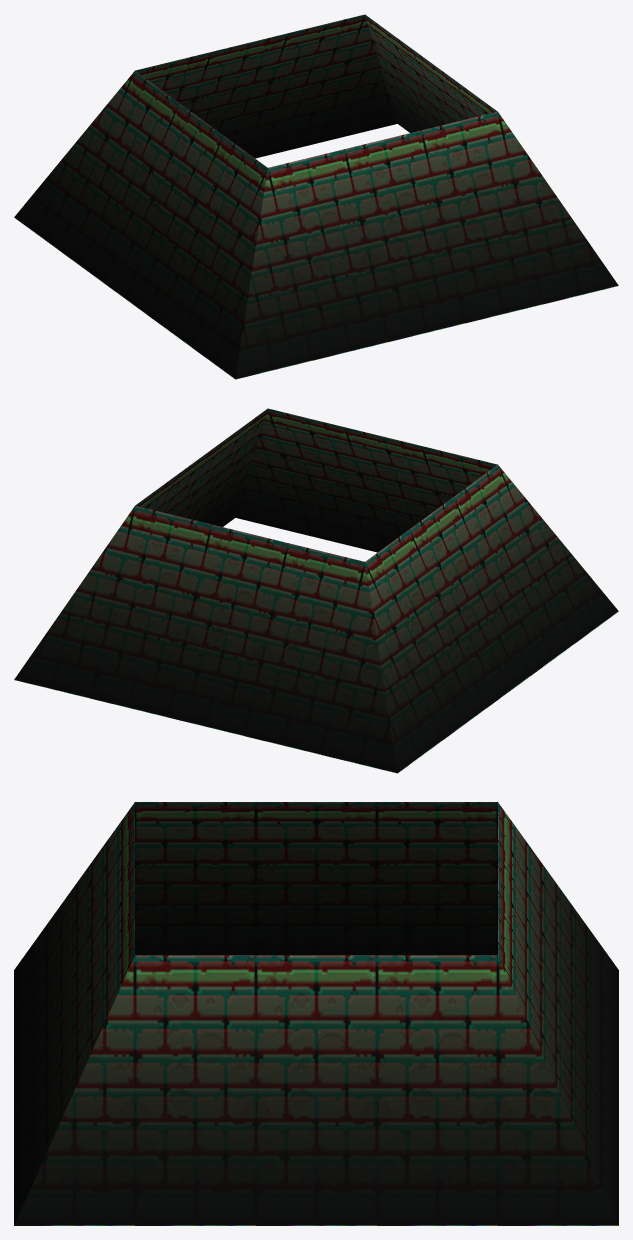
File: arch_cathedral_wallBottom_isle.FBX
3 renders of one model, top to bottom at view 1: azimuth 30°, elevation 25°; view 2: azimuth 150°, elevation 25°; view 3: azimuth 270°, elevation 25°, orthographic. The views are drawn at different scales.
Parts seen in each view (by area): view 1: arch_cathedral_wallBottom_isle; view 2: arch_cathedral_wallBottom_isle; view 3: arch_cathedral_wallBottom_isle.
Boxes of the visible parts, <box> form: arch_cathedral_wallBottom_isle: <box>14,14,618,379</box>; arch_cathedral_wallBottom_isle: <box>14,408,618,773</box>; arch_cathedral_wallBottom_isle: <box>14,802,618,1225</box>.
Bounding box in the file's own units: 10 × 4 × 10.
1 material, 1 textured.
